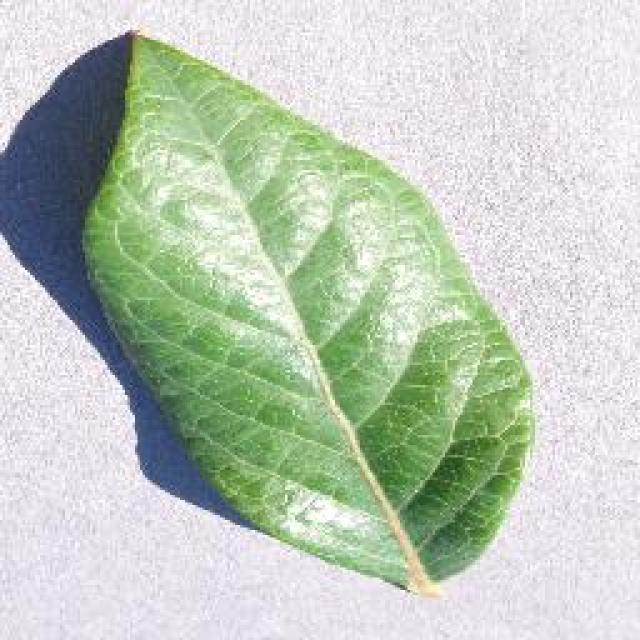Blu_healthy: (92, 108, 474, 518)
